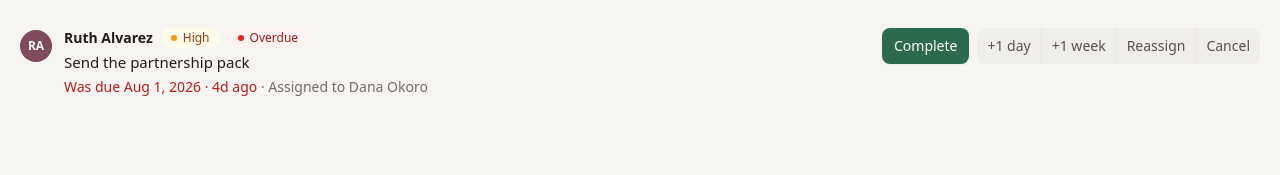
Test: FollowUpQueue › announces the outcome and takes focus, because the row it applied to has left the segment
Click the button with aria-label "snooze +1 day": (1009, 46) left=978, top=28, right=1041, bottom=64
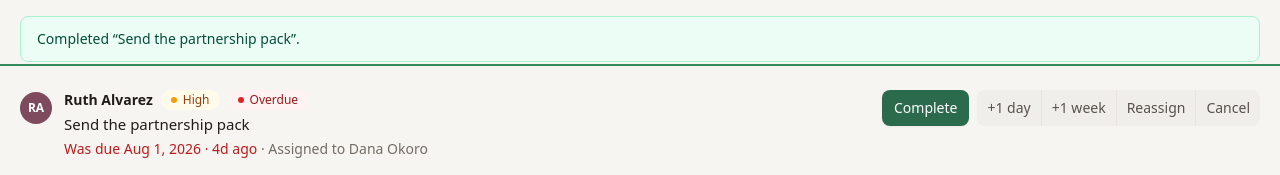
Check: the message reads "Completed “Send the partnership pack”.", box left=37, top=29, right=300, bottom=48
